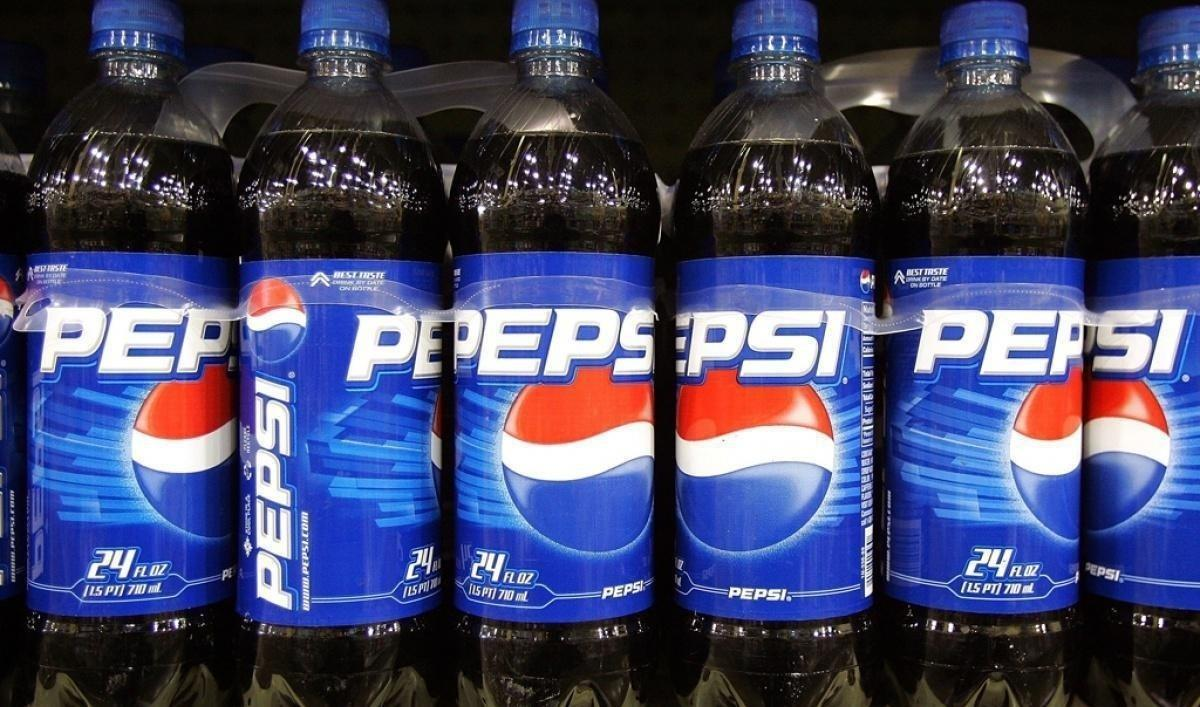bottle-plastic: (12, 0, 244, 696), (659, 0, 887, 701), (872, 0, 1099, 704), (231, 0, 457, 701), (444, 0, 668, 697), (1076, 3, 1199, 706)
